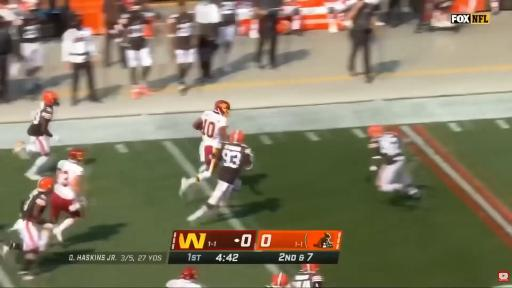Helmet: (214, 100, 230, 116), (37, 177, 54, 192), (43, 91, 59, 106), (271, 273, 288, 287), (367, 125, 384, 138), (69, 148, 84, 162), (181, 267, 196, 279), (230, 130, 243, 142), (301, 264, 319, 272)
Jersey: (214, 142, 251, 184), (55, 160, 83, 199), (21, 190, 47, 223), (377, 133, 404, 164), (28, 103, 53, 136), (201, 111, 228, 141), (292, 272, 323, 287), (166, 279, 202, 287)
Player: (187, 130, 253, 221), (1, 177, 53, 279), (180, 100, 230, 194), (14, 91, 59, 180), (368, 125, 420, 197), (51, 148, 84, 242), (166, 267, 203, 287), (292, 264, 323, 287), (266, 273, 291, 287)
